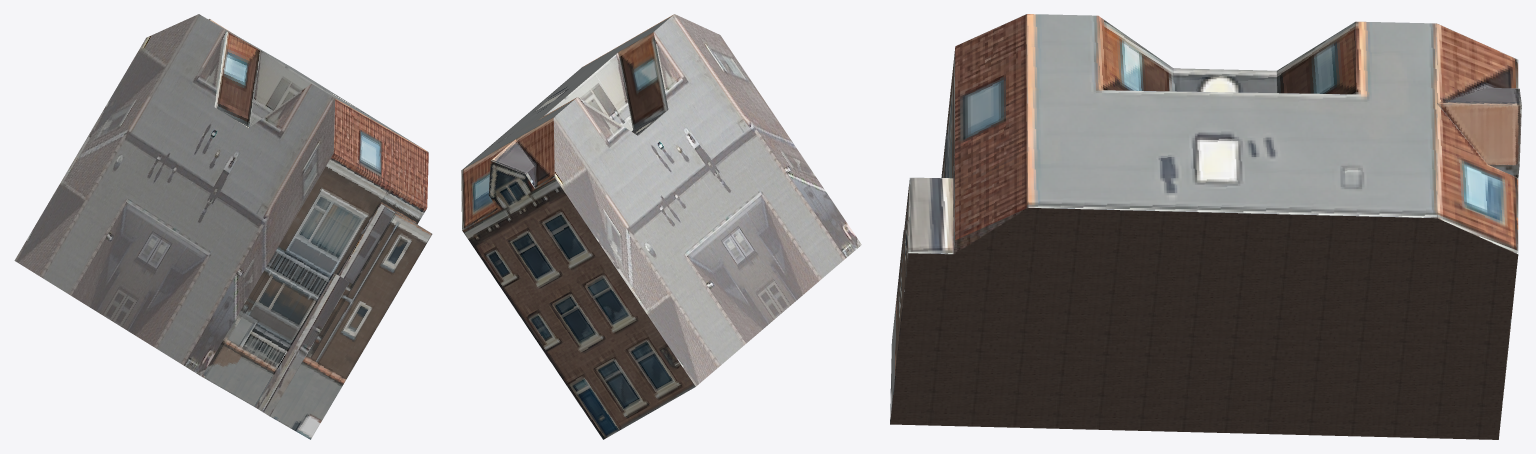
The picture shows the model from 3 angles, left to right: view 1: azimuth 30°, elevation 25°; view 2: azimuth 150°, elevation 25°; view 3: azimuth 270°, elevation 25°; orthographic projection. The views are drawn at different scales.
Parts seen in each view (by area): view 1: BAG_0599100000670790 (×3); view 2: BAG_0599100000670790 (×3); view 3: BAG_0599100000670790 (×3).
Boxes of the visible parts, <box> form: BAG_0599100000670790 (×3): <box>14,14,432,439</box>; BAG_0599100000670790 (×3): <box>461,14,861,439</box>; BAG_0599100000670790 (×3): <box>890,14,1521,439</box>.
Size of the model in its own units: 12.91 by 14.3 by 16.89.
3 materials, 3 textured.
